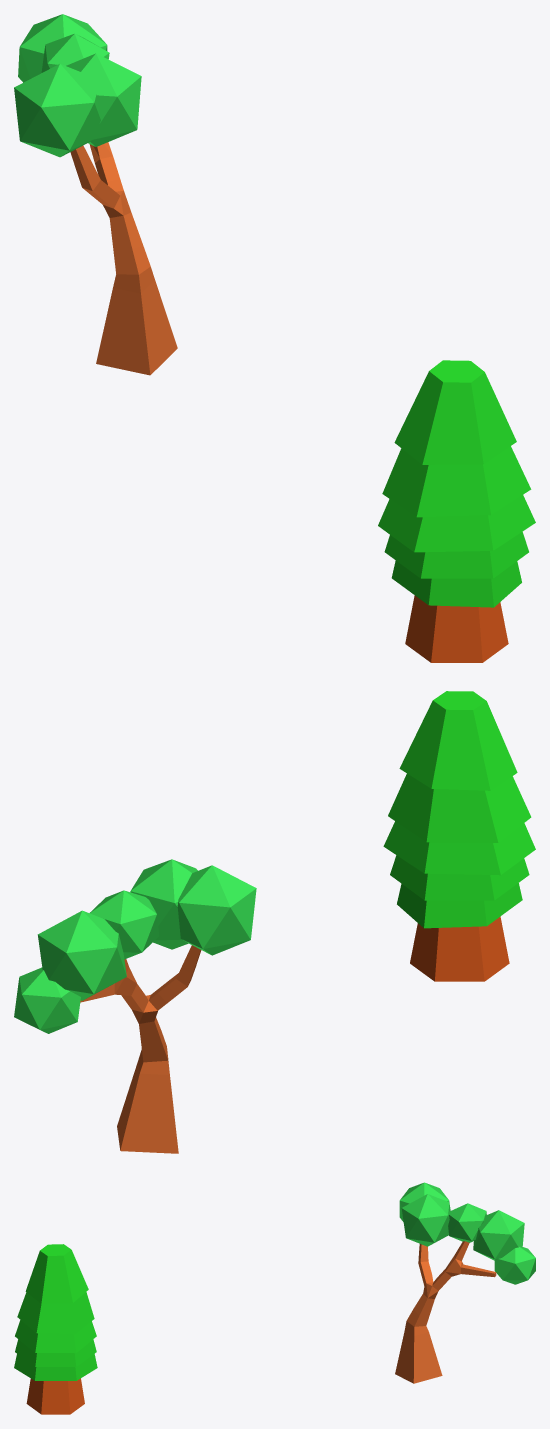
File: Trees.fbx
3 views of the same model, one above another, from view 1: azimuth 30°, elevation 25°; view 2: azimuth 150°, elevation 25°; view 3: azimuth 270°, elevation 25° (orthographic). The views are drawn at different scales.
Visible parts, largest first — view 1: Cube, Cylinder.005, Cylinder.004, Icosphere, Cylinder.003, Cylinder, Icosphere.004, Cylinder.002, Cylinder.001, Icosphere.003, Icosphere.001; view 2: Cylinder.005, Cube, Cylinder.004, Icosphere.003, Icosphere, Cylinder, Cylinder.003, Cylinder.002, Cylinder.001, Icosphere.002, Icosphere.004, Icosphere.001; view 3: Cube, Cylinder.005, Cylinder.004, Icosphere.004, Icosphere.003, Cylinder, Cylinder.003, Cylinder.001, Icosphere.002, Cylinder.002, Icosphere.001, Icosphere.
Part boxes in pixels (bbox=[...]): Cube: bbox=[70, 142, 177, 375]; Cylinder.005: bbox=[394, 360, 516, 464]; Cylinder.004: bbox=[382, 446, 531, 517]; Icosphere: bbox=[14, 64, 100, 157]; Cylinder.003: bbox=[378, 495, 535, 552]; Cylinder: bbox=[405, 595, 508, 662]; Icosphere.004: bbox=[66, 53, 141, 146]; Cylinder.002: bbox=[384, 532, 528, 578]; Cylinder.001: bbox=[391, 560, 521, 607]; Icosphere.003: bbox=[18, 14, 107, 82]; Icosphere.001: bbox=[41, 33, 109, 72]; Cylinder.005: bbox=[399, 691, 517, 790]; Cube: bbox=[80, 945, 201, 1153]; Cylinder.004: bbox=[388, 773, 531, 842]; Icosphere.003: bbox=[37, 910, 126, 1000]; Icosphere: bbox=[177, 865, 256, 955]; Cylinder: bbox=[410, 916, 509, 981]; Cylinder.003: bbox=[383, 821, 535, 875]; Cylinder.002: bbox=[390, 855, 529, 900]; Cylinder.001: bbox=[397, 883, 522, 928]; Icosphere.002: bbox=[14, 967, 80, 1033]; Icosphere.004: bbox=[130, 859, 197, 949]; Icosphere.001: bbox=[89, 890, 159, 959]; Cube: bbox=[395, 1241, 496, 1383]; Cylinder.005: bbox=[25, 1244, 88, 1303]; Cylinder.004: bbox=[17, 1292, 94, 1334]; Icosphere.004: bbox=[401, 1194, 450, 1246]; Icosphere.003: bbox=[473, 1210, 524, 1260]; Cylinder: bbox=[26, 1378, 84, 1414]; Cylinder.003: bbox=[15, 1320, 96, 1352]; Cylinder.001: bbox=[14, 1354, 97, 1380]; Icosphere.002: bbox=[494, 1247, 535, 1284]; Cylinder.002: bbox=[15, 1339, 96, 1366]; Icosphere.001: bbox=[448, 1203, 486, 1242]; Icosphere: bbox=[399, 1182, 449, 1221].
Bounding box in the file's own units: 382 × 764 × 1788.
